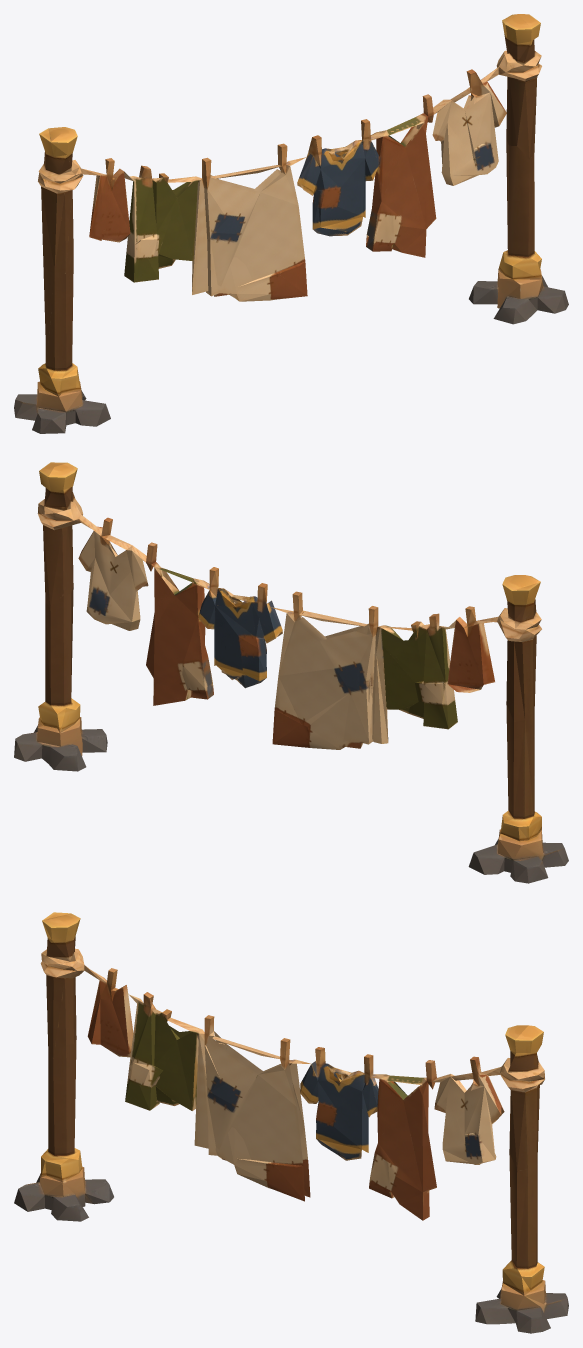
The model's file is TWN_PRP_laundry_A.glb.
3 renders of one model, top to bottom at view 1: azimuth 30°, elevation 25°; view 2: azimuth 150°, elevation 25°; view 3: azimuth 330°, elevation 25°, orthographic.
Visible parts, largest first — view 1: Mesh_0; view 2: Mesh_0; view 3: Mesh_0.
Part boxes in pixels (left/top/right/bottom): Mesh_0: left=14, top=14, right=568, bottom=433; Mesh_0: left=14, top=462, right=568, bottom=883; Mesh_0: left=14, top=912, right=568, bottom=1333.
Bounding box in the file's own units: 1.9 × 0.9742 × 0.2609.
1 material, 1 textured.
